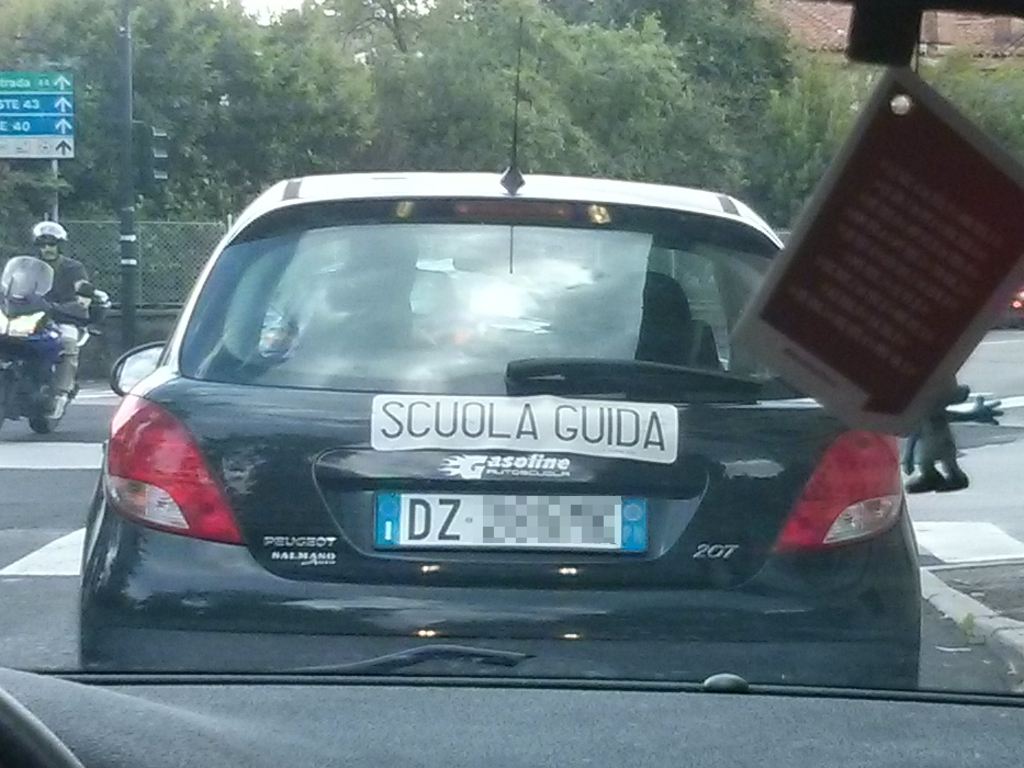Tree: (0, 0, 1023, 304)
